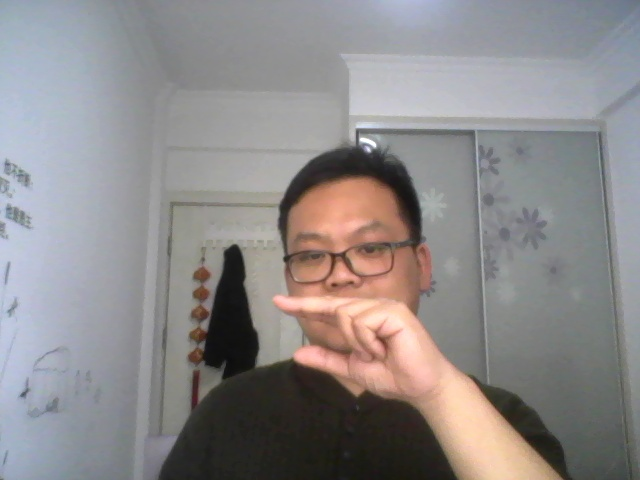No: (268, 292, 457, 403)
